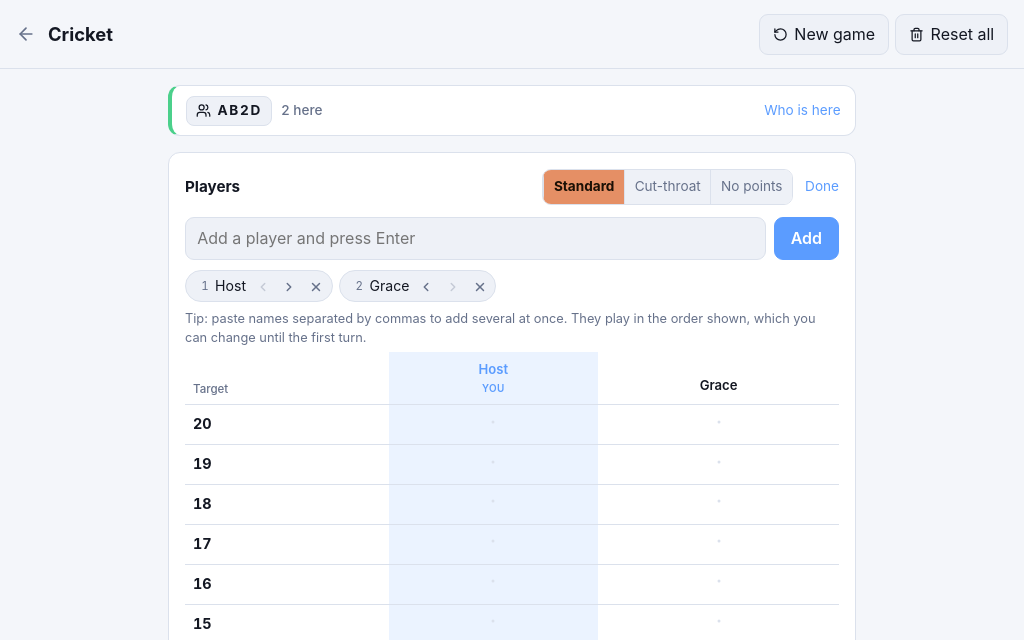
it: a room that ends mid-game › tells a guest when the host removes them
The width and height of the screenshot is (1024, 640).
Click the button "Who is here" at (802, 111), box [764,101,841,121]
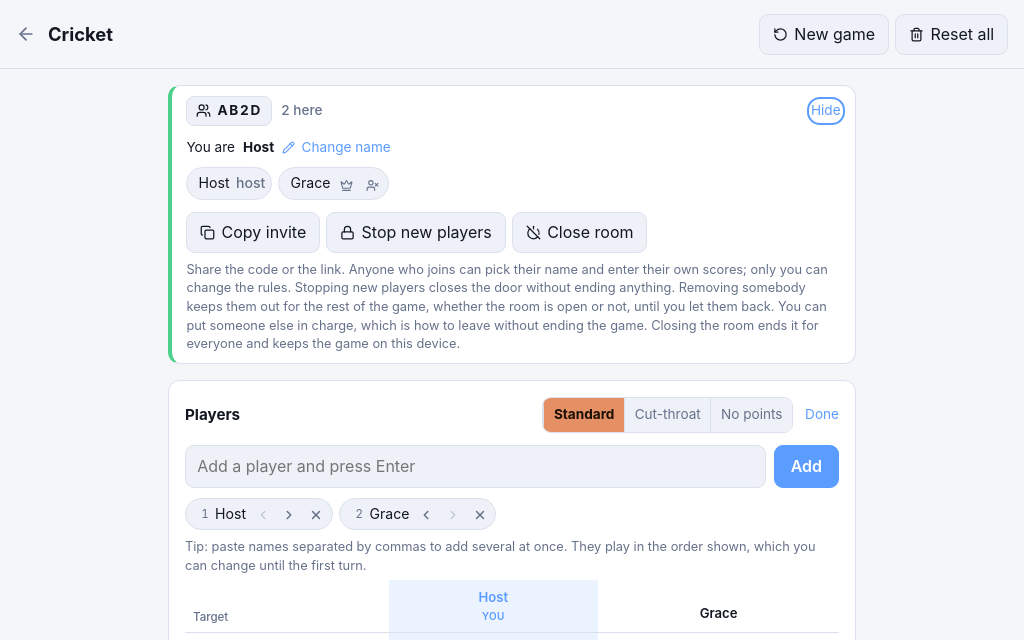
Click the button named "Remove Grace from the room" at (372, 183), box [363,172,382,195]
(page scrolled)
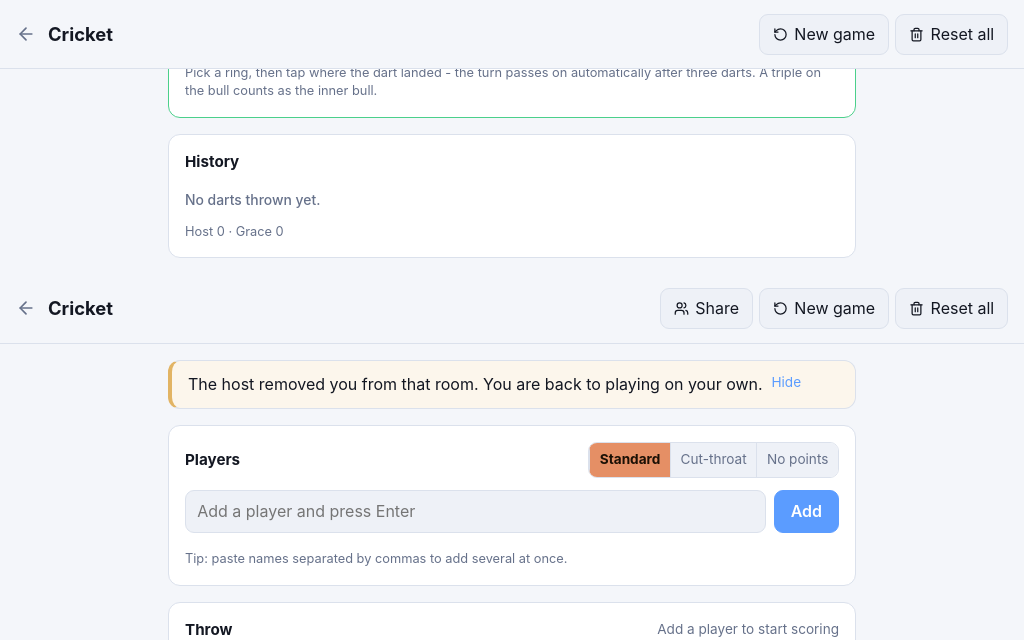
Expected: the text "removed you from that room" is shown, [188,374,763,394]
